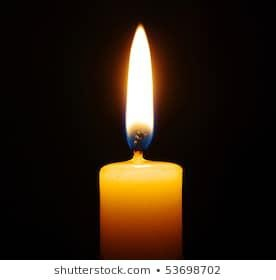fire: (124, 17, 156, 157)
